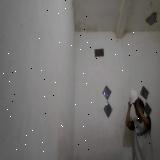Helmet: (128, 89, 140, 105)
